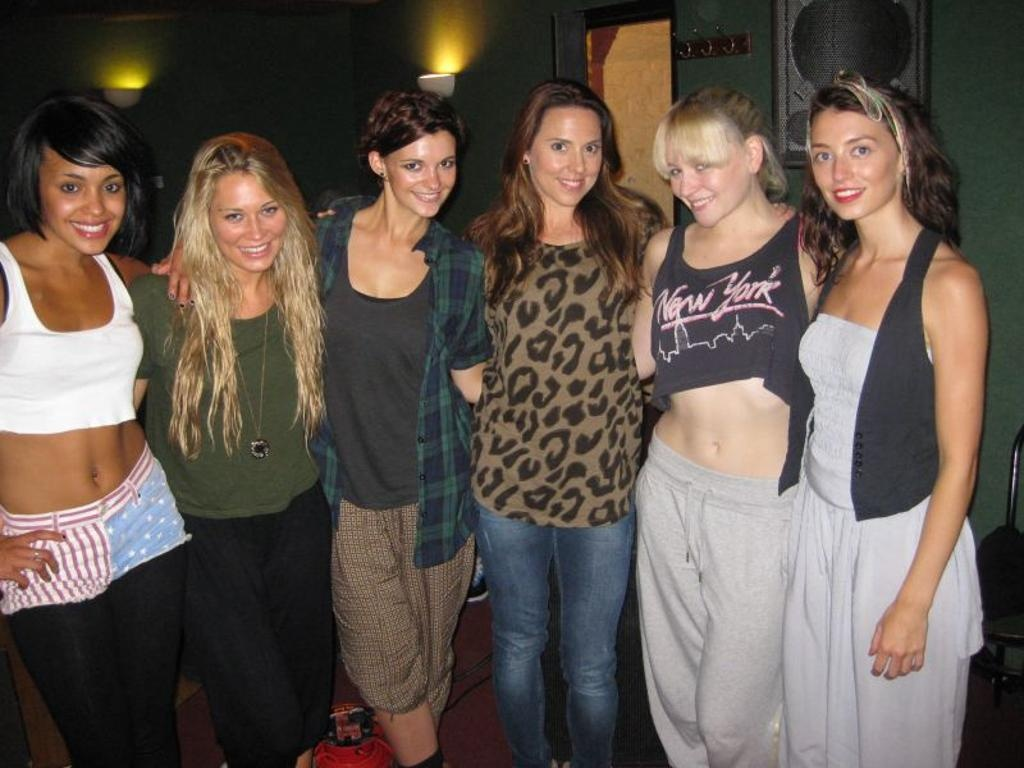human_face: (812, 110, 898, 222), (40, 148, 126, 256), (210, 172, 288, 272), (672, 132, 748, 224), (536, 104, 600, 206), (386, 132, 456, 214)
